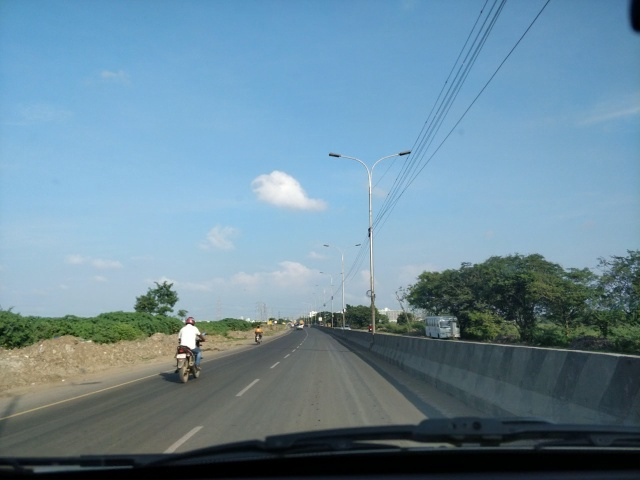bus: (424, 317, 464, 340)
car: (296, 322, 307, 334)
motorbike: (168, 316, 205, 384), (253, 327, 265, 347)
